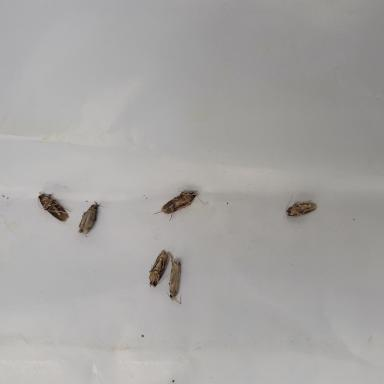pbw: (155, 185, 206, 220), (34, 192, 74, 222), (147, 246, 170, 287), (78, 200, 99, 234), (167, 258, 181, 304), (286, 199, 316, 215)
